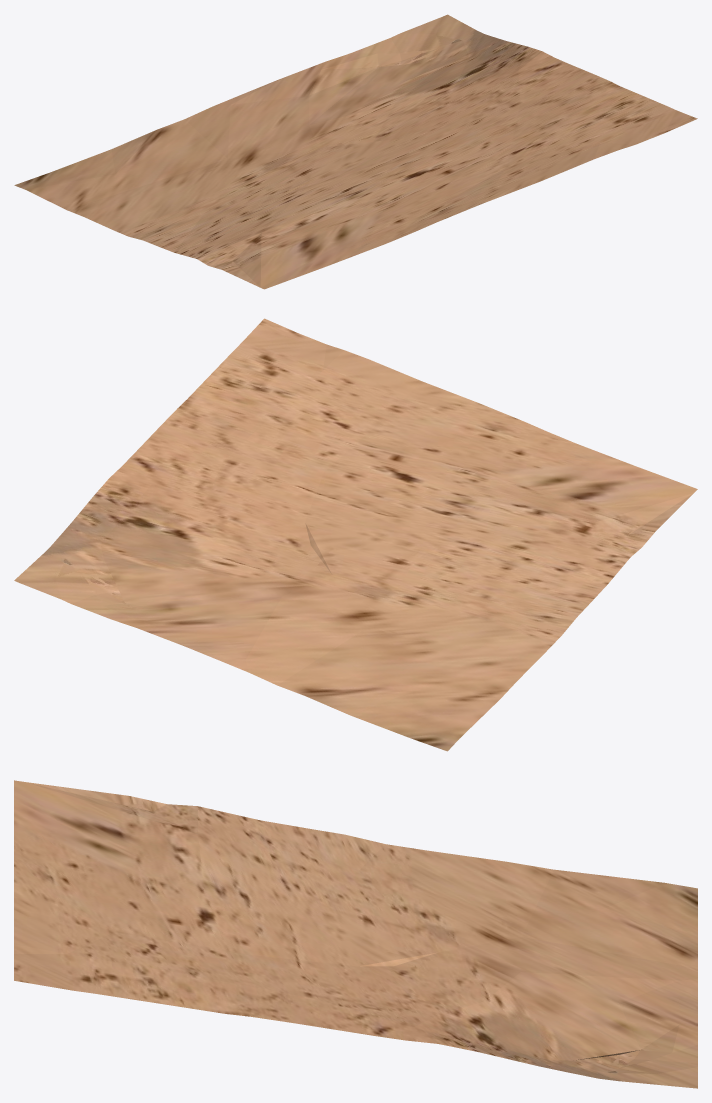
3 views of the same model, one above another, from view 1: azimuth 30°, elevation 25°; view 2: azimuth 150°, elevation 25°; view 3: azimuth 270°, elevation 25° (orthographic). The views are drawn at different scales.
Bounding box in the file's own units: 1.04 × 0.3315 × 1.04.
3 materials, 3 textured.
